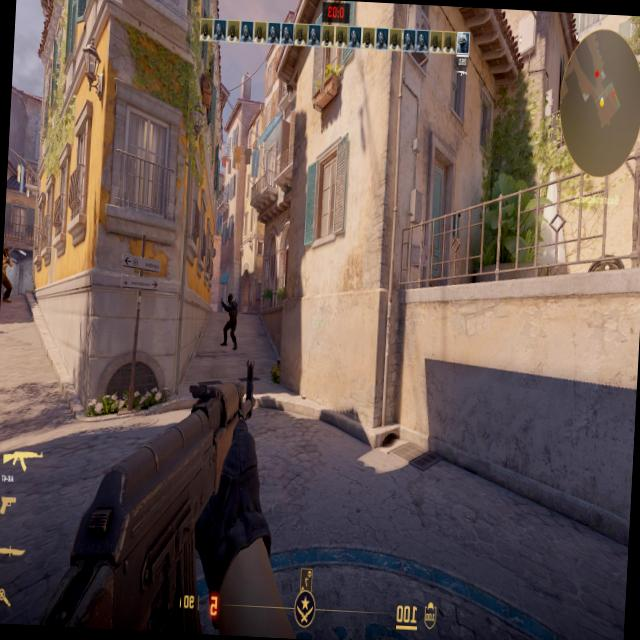CT: (227, 294, 238, 336)
CT_heat: (232, 298, 234, 304)
